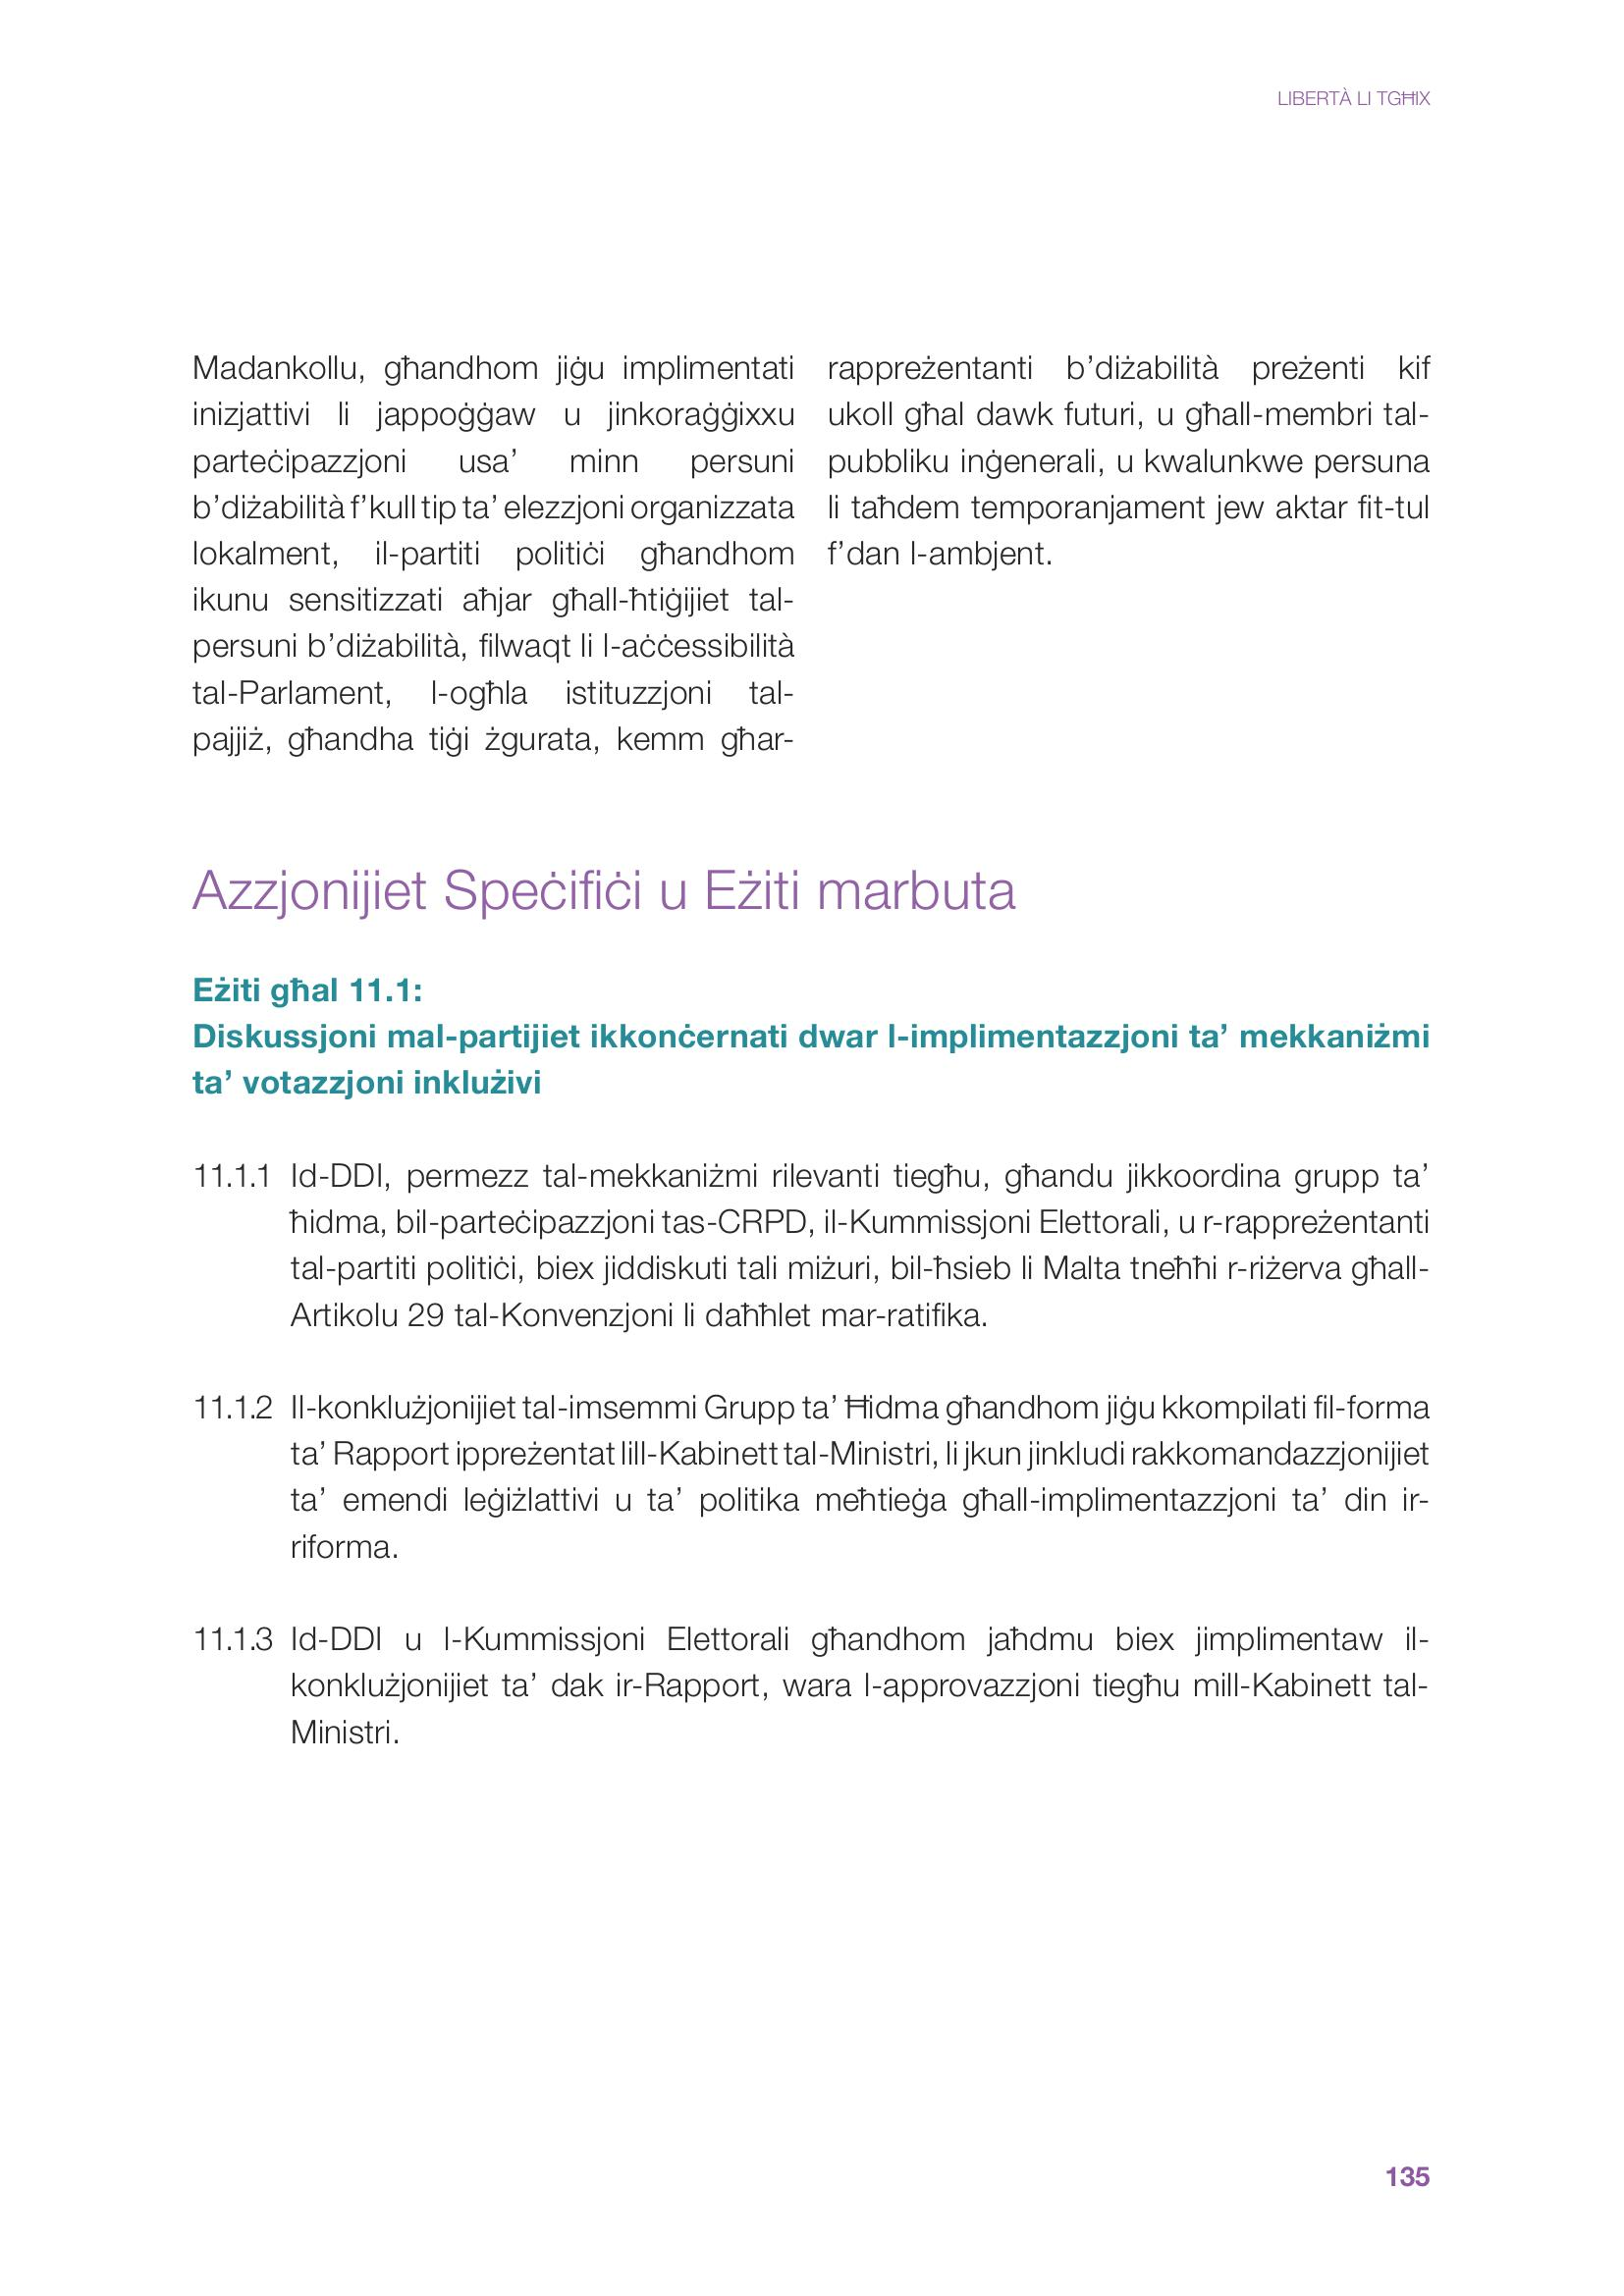text: (165, 848, 1466, 1781), (158, 327, 814, 778), (810, 339, 1459, 594)
